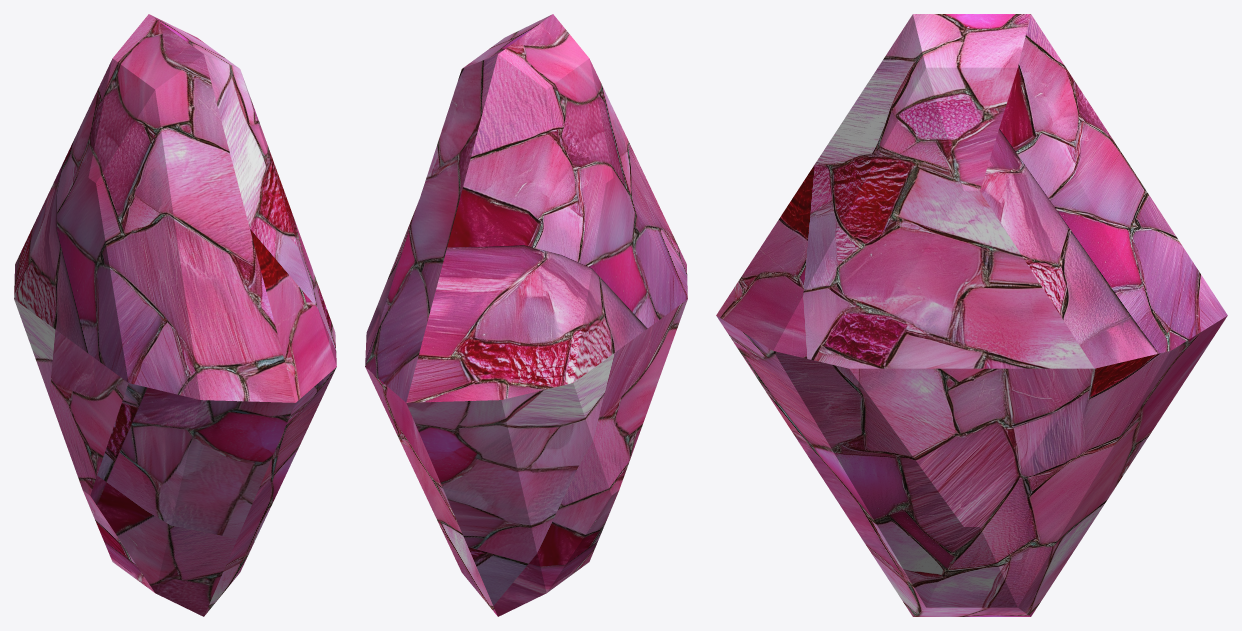
The model's file is gemstone7Pink.glb.
3 renders of one model, left to right at view 1: azimuth 30°, elevation 25°; view 2: azimuth 150°, elevation 25°; view 3: azimuth 270°, elevation 25°, orthographic. The views are drawn at different scales.
Parts seen in each view (by area): view 1: gemstone6; view 2: gemstone6; view 3: gemstone6.
Part boxes in pixels (box(x1,y1,x2,y2)): gemstone6: box(14, 14, 336, 616); gemstone6: box(365, 14, 687, 616); gemstone6: box(716, 14, 1227, 616).
Bounding box in the file's own units: 0.5 × 1.3 × 1.
Materials: 1 (1 with a texture image).
